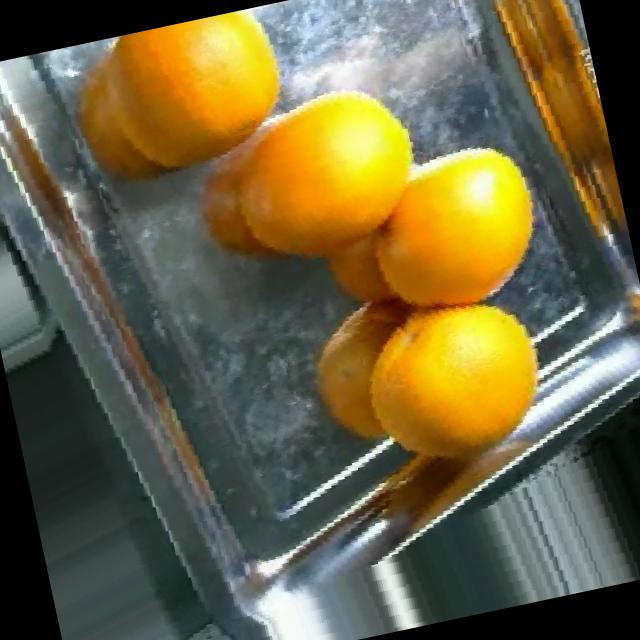Fruit: (340, 114, 572, 346)
